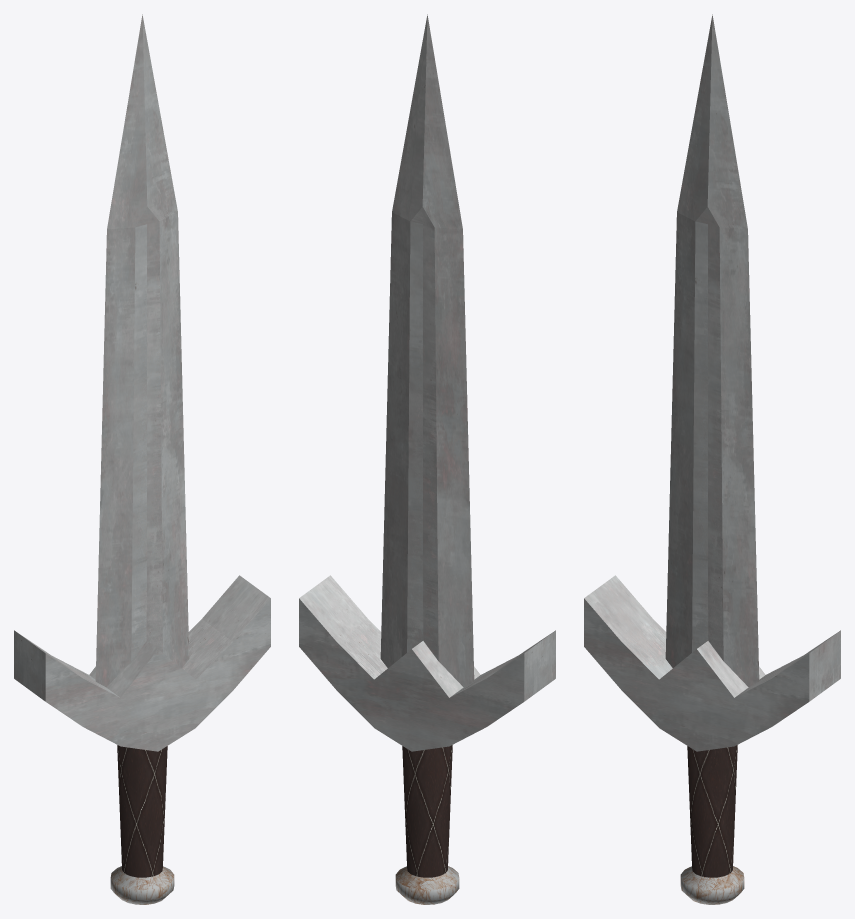
Rendered from Thruster's sword.glb.
3 views of the same model, side by side, from view 1: azimuth 30°, elevation 25°; view 2: azimuth 150°, elevation 25°; view 3: azimuth 330°, elevation 25° (orthographic).
Visible parts, largest first — view 1: Broadsword; view 2: Broadsword; view 3: Broadsword.
Boxes of the visible parts, <box> form: Broadsword: <box>14,14,270,904</box>; Broadsword: <box>299,14,555,904</box>; Broadsword: <box>584,14,840,904</box>.
Bounding box in the file's own units: 0.3151 × 1.18 × 0.0779.
3 materials, 3 textured.
